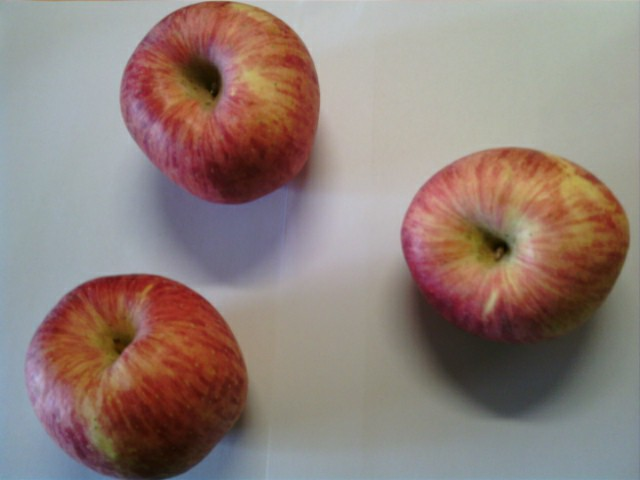normal_apple: (396, 146, 634, 353), (24, 273, 248, 480), (120, 1, 321, 207)
